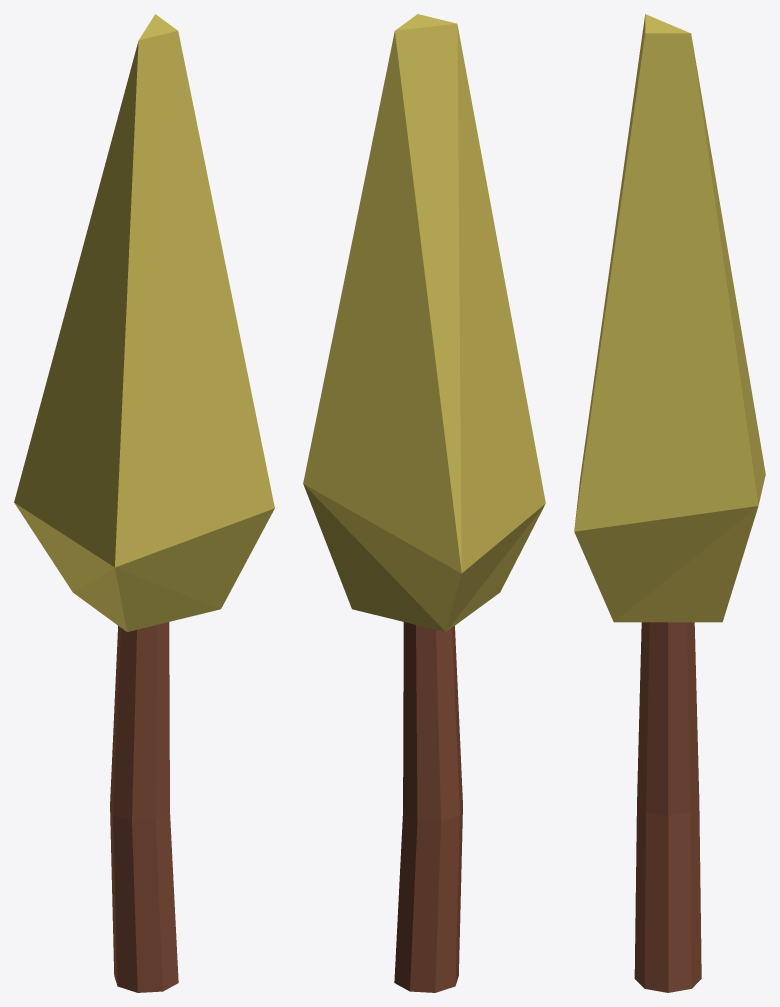
Rendered from Tree_49_autumn_mat.fbx.
3 views of the same model, side by side, from view 1: azimuth 30°, elevation 25°; view 2: azimuth 150°, elevation 25°; view 3: azimuth 270°, elevation 25° (orthographic).
Visible parts, largest first — view 1: Tree_49_autumn_mat; view 2: Tree_49_autumn_mat; view 3: Tree_49_autumn_mat.
Boxes of the visible parts, x1=… form: Tree_49_autumn_mat: x1=14, y1=14, x2=274, y2=992; Tree_49_autumn_mat: x1=303, y1=14, x2=545, y2=992; Tree_49_autumn_mat: x1=574, y1=14, x2=765, y2=992.
Size of the model in its own units: 47.16 by 259 by 47.16.
